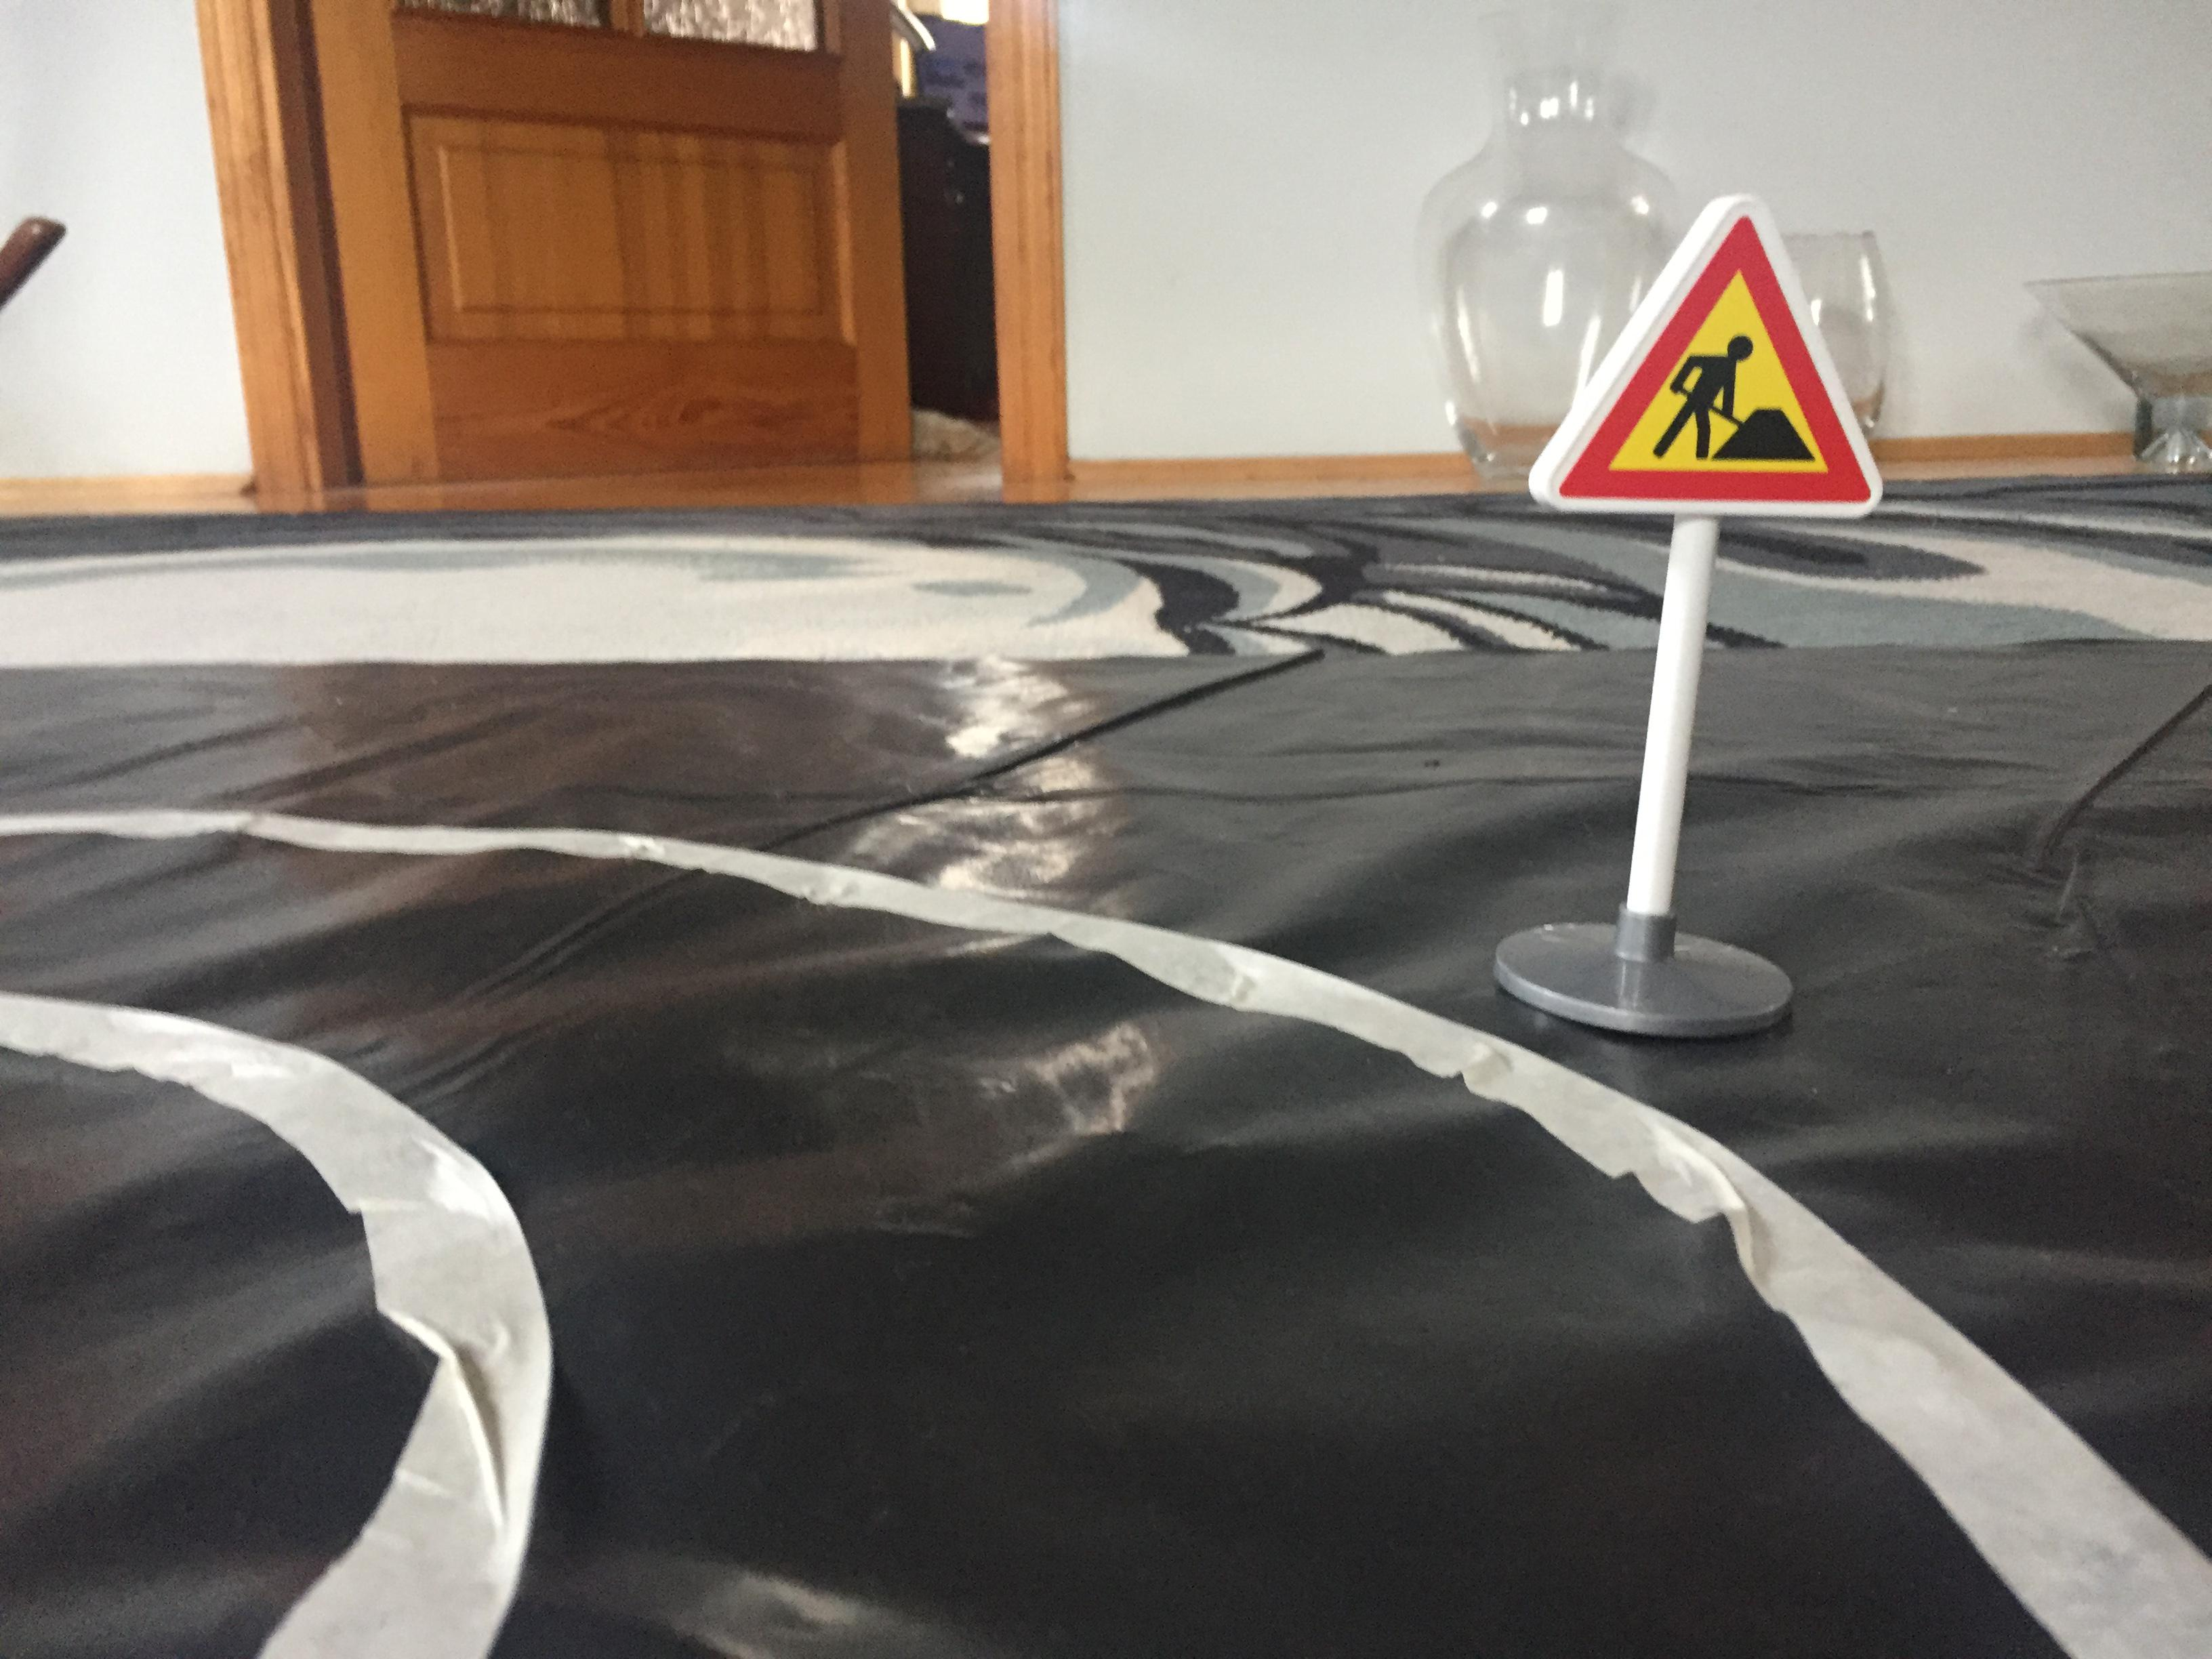work: (1522, 183, 1904, 542)
